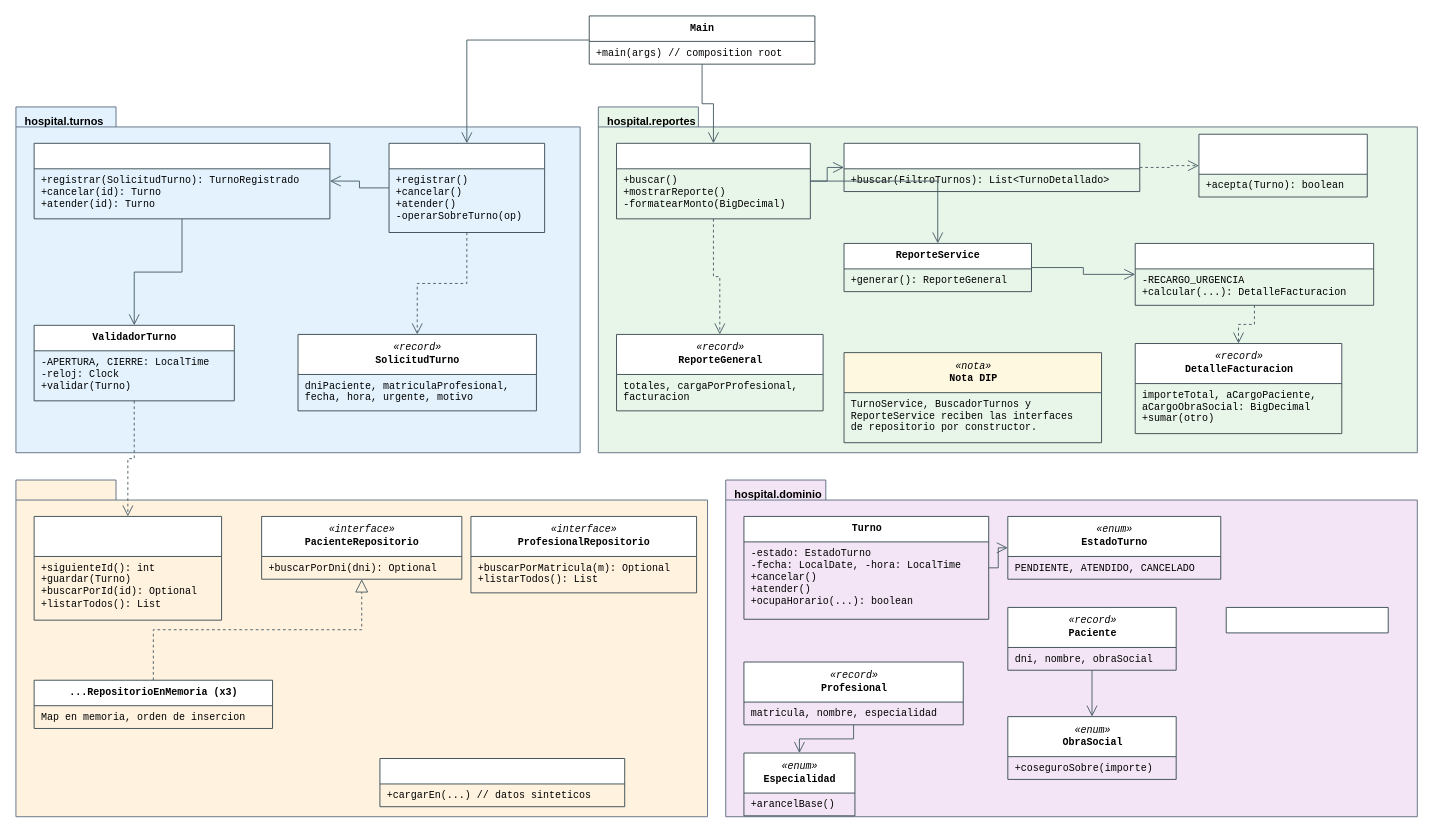
Image size: 1433x833. Some labels were removed from this diagram. The shapes that lost their labels are listed below. From the top down, each one's box as (x1, y1, x2, y2) in pixels, then its label:
(33, 142, 330, 219): TurnoService
(616, 142, 810, 219): ReportesConsola
(843, 142, 1140, 192): BuscadorTurnos
(1198, 133, 1367, 197): «record» FiltroTurnos
(388, 142, 545, 233): TurnosConsola
(1134, 243, 1374, 305): CalculadoraArancel
(33, 516, 222, 620): «interface» TurnoRepositorio
(1225, 607, 1388, 633): TurnoInvalidoException
(15, 479, 708, 817): hospital.repositorio
(379, 758, 625, 807): DatosIniciales
